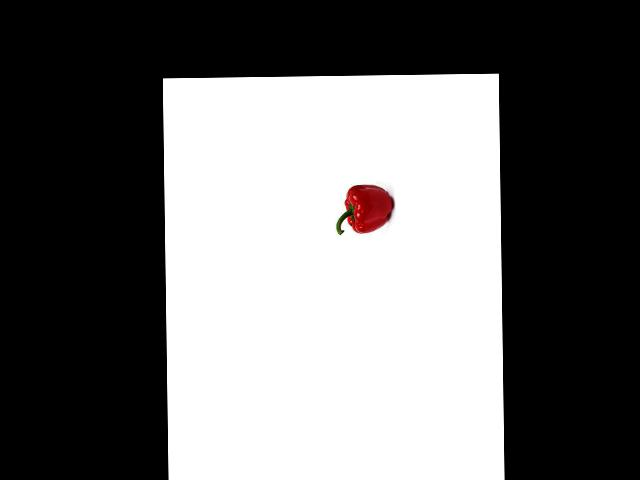bell_pepper: (334, 180, 394, 237)
